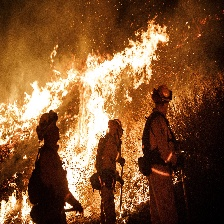fire: (1, 25, 173, 224)
smoke: (10, 7, 105, 70)
